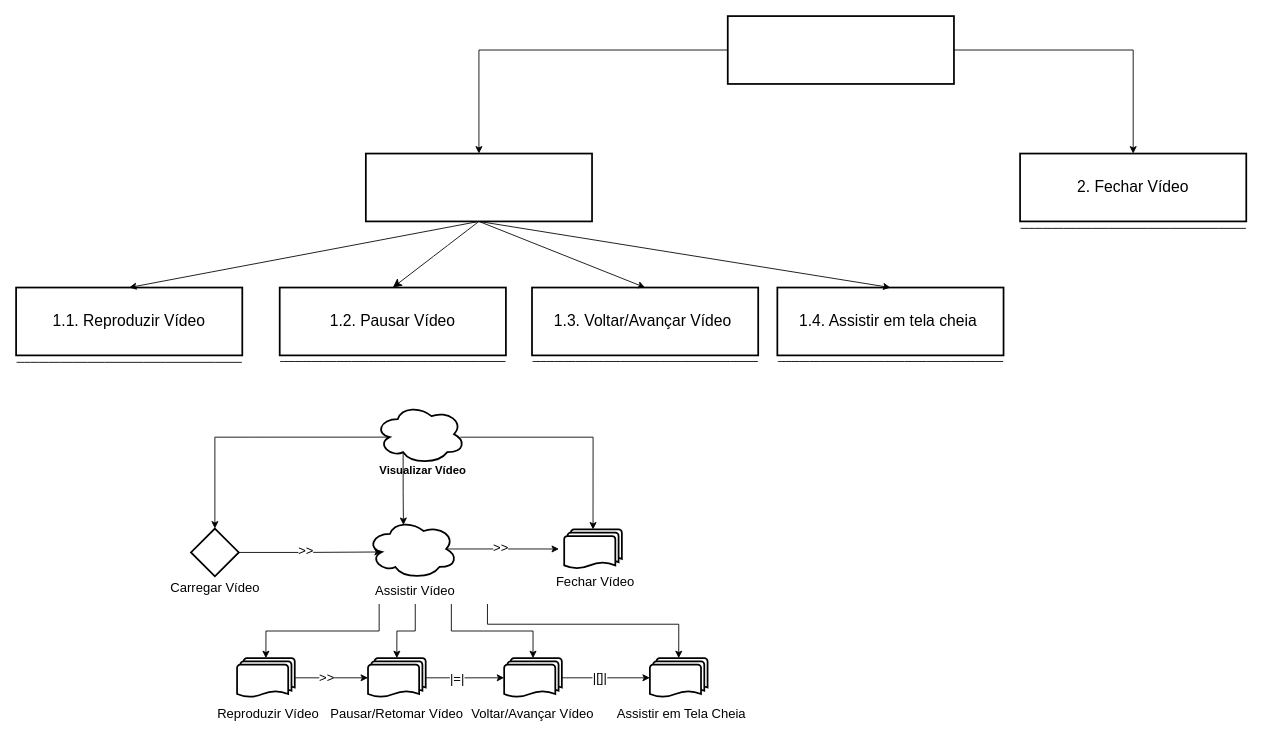
Image size: 1262x741. Some labels were removed from this diagram. The shapes that lost their labels are listed below. From the top down, each one's centre as x and y in pixels, then its label:
At pixel 840 49: "0. Visualizar Vídeo 1>2".
At pixel 478 187: "1. Assistir ao Vídeo 1 + (2/3/4)".
